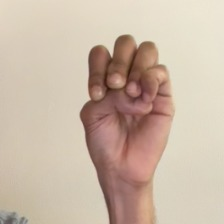E: (56, 26, 189, 193)
